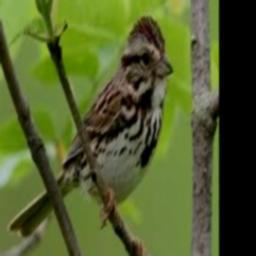Sparrow: (9, 17, 174, 256)
